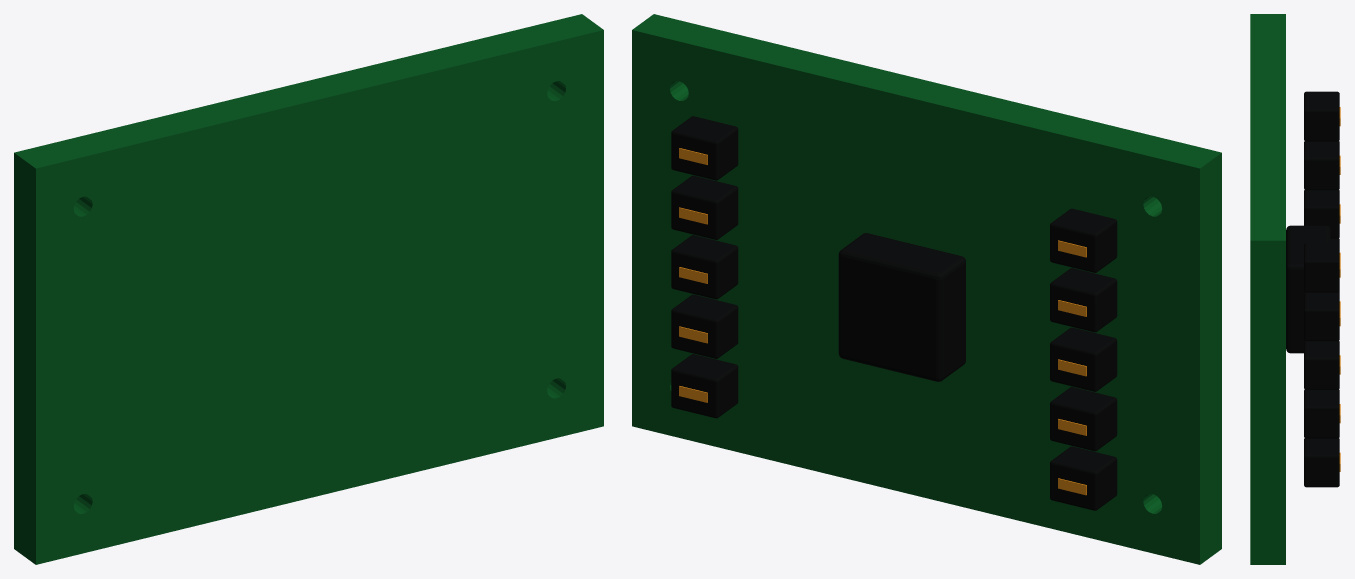
File: kit_controller.obj
3 views of the same model, side by side, from view 1: azimuth 30°, elevation 25°; view 2: azimuth 150°, elevation 25°; view 3: azimuth 270°, elevation 25° (orthographic). The views are drawn at different scales.
Parts seen in each view (by area): view 1: kit_controller; view 2: kit_controller; view 3: kit_controller.
Part boxes in pixels (x1,y1,x2,y2): kit_controller: (14,14,603,564); kit_controller: (632,14,1221,564); kit_controller: (1250,14,1340,564).
Size of the model in its own units: 0.12 by 0.08 by 0.0202.
